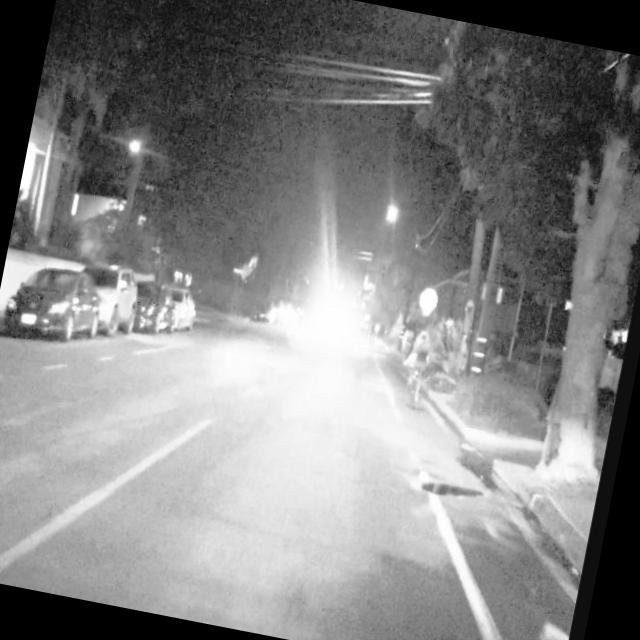Tree: (533, 52, 640, 495)
